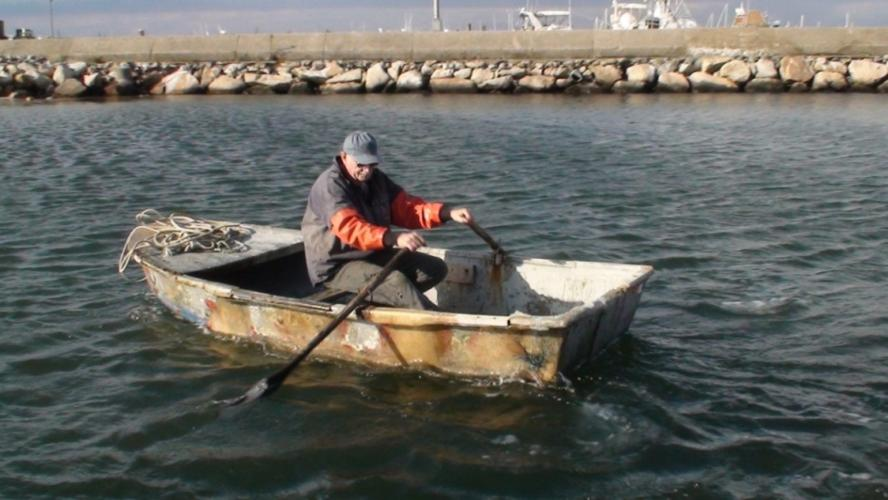person: (298, 128, 476, 313)
